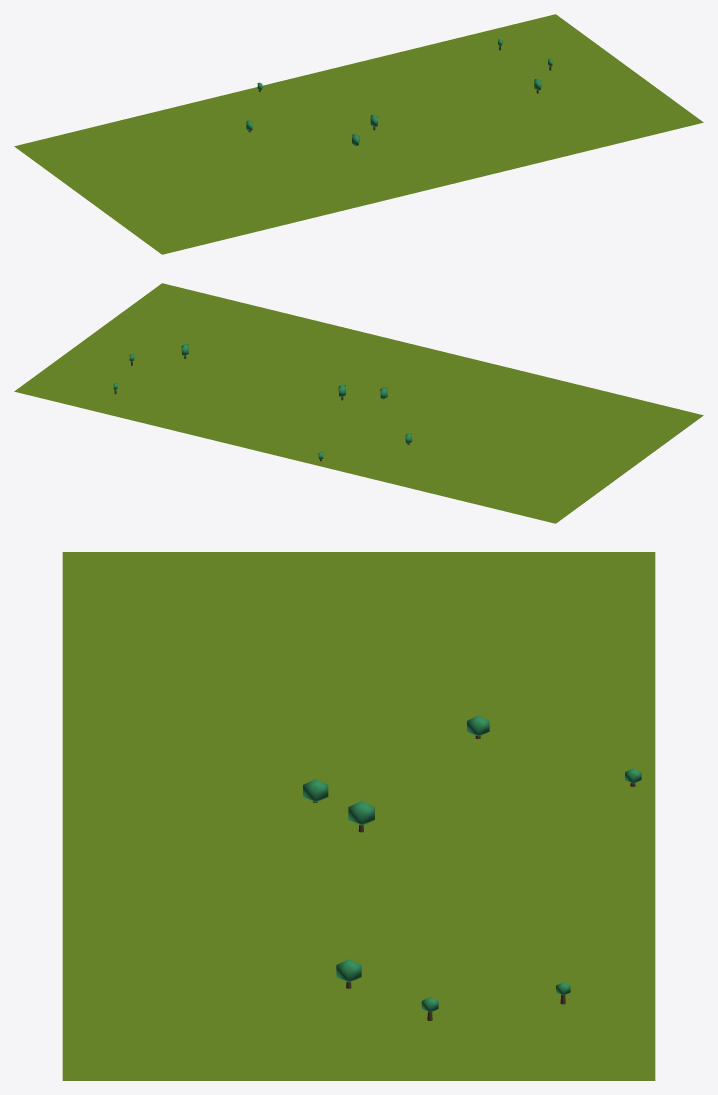
Rendered from nature_left2.glb.
The picture shows the model from 3 angles, top to bottom: view 1: azimuth 30°, elevation 25°; view 2: azimuth 150°, elevation 25°; view 3: azimuth 270°, elevation 25°; orthographic projection. The views are drawn at different scales.
Size of the model in its own units: 57 by 1.58 by 27.
